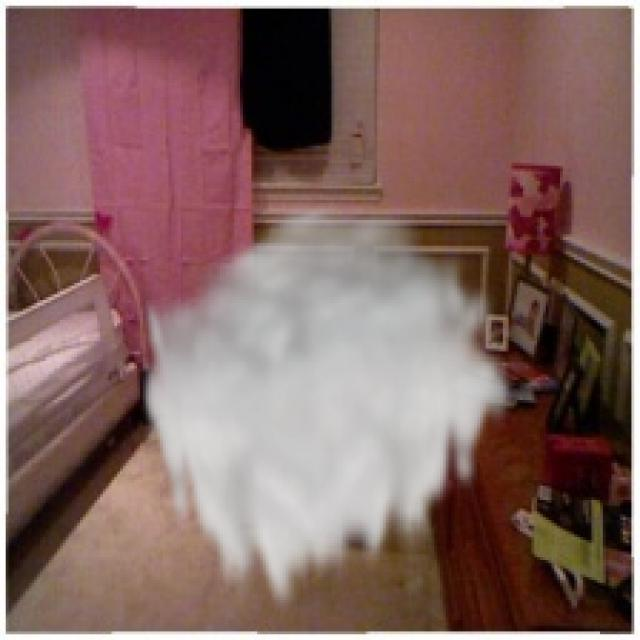smoke: (137, 197, 517, 623)
